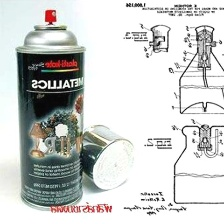aerosol_cans: (11, 3, 91, 216)
